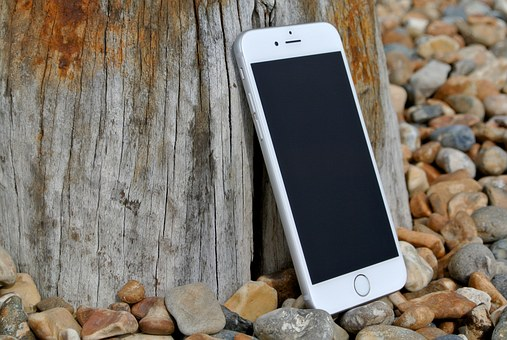mobile: (229, 21, 414, 307)
